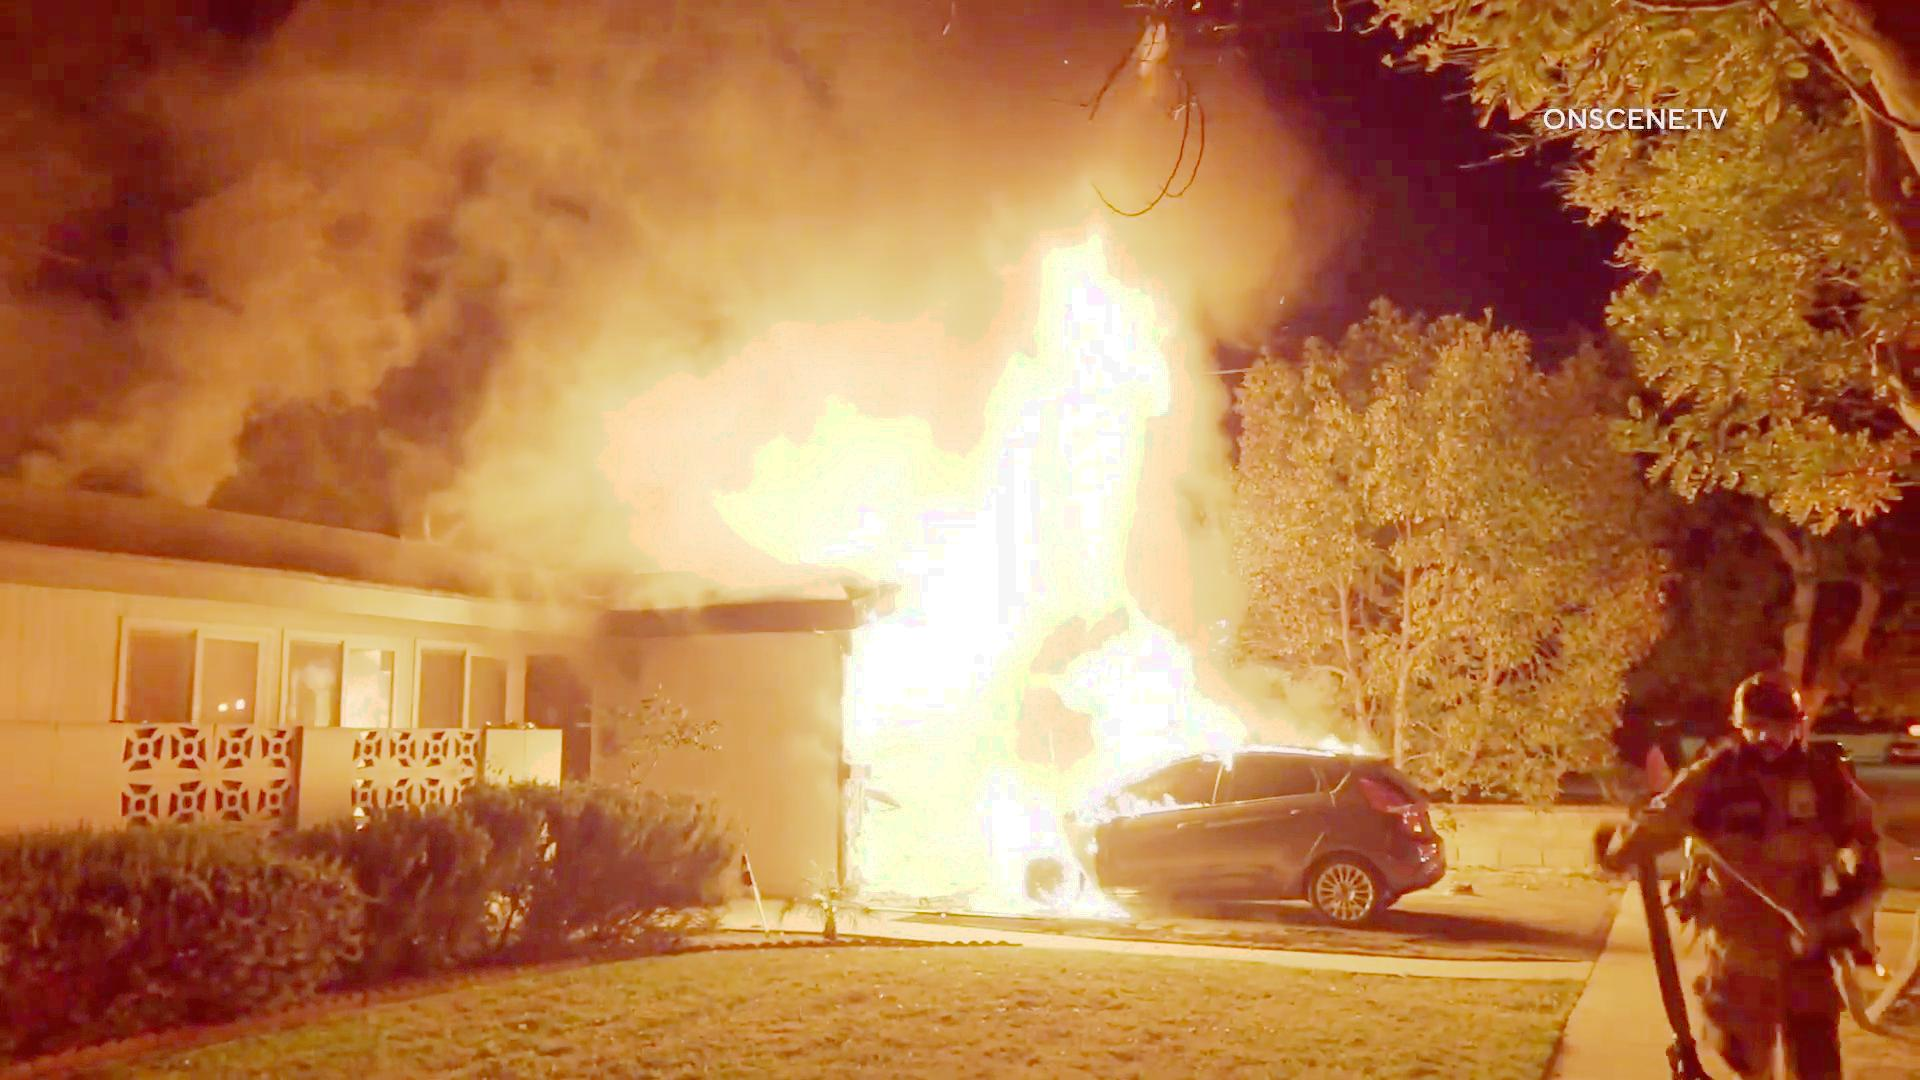fire: (1035, 233, 1237, 746), (705, 376, 1183, 588), (886, 516, 1069, 922)
smoke: (13, 3, 686, 510), (343, 11, 1423, 231)
